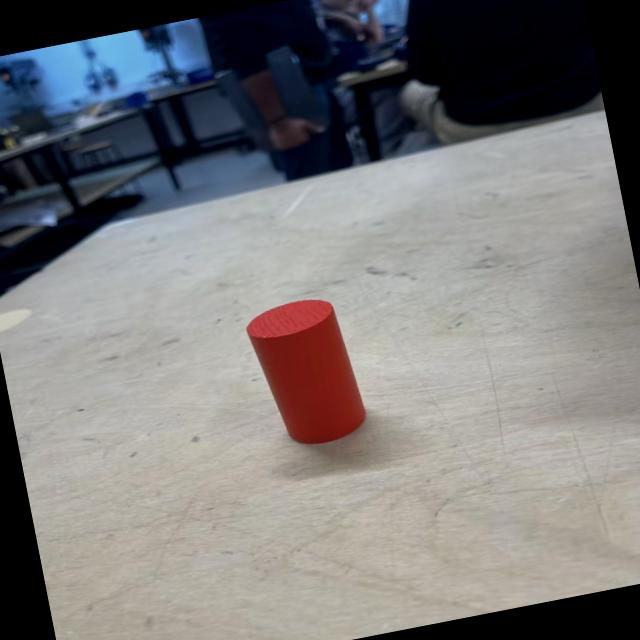red_cylinder: (242, 292, 370, 454)
